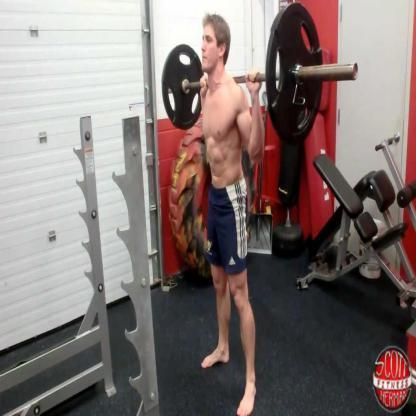barbell: (160, 1, 360, 147)
